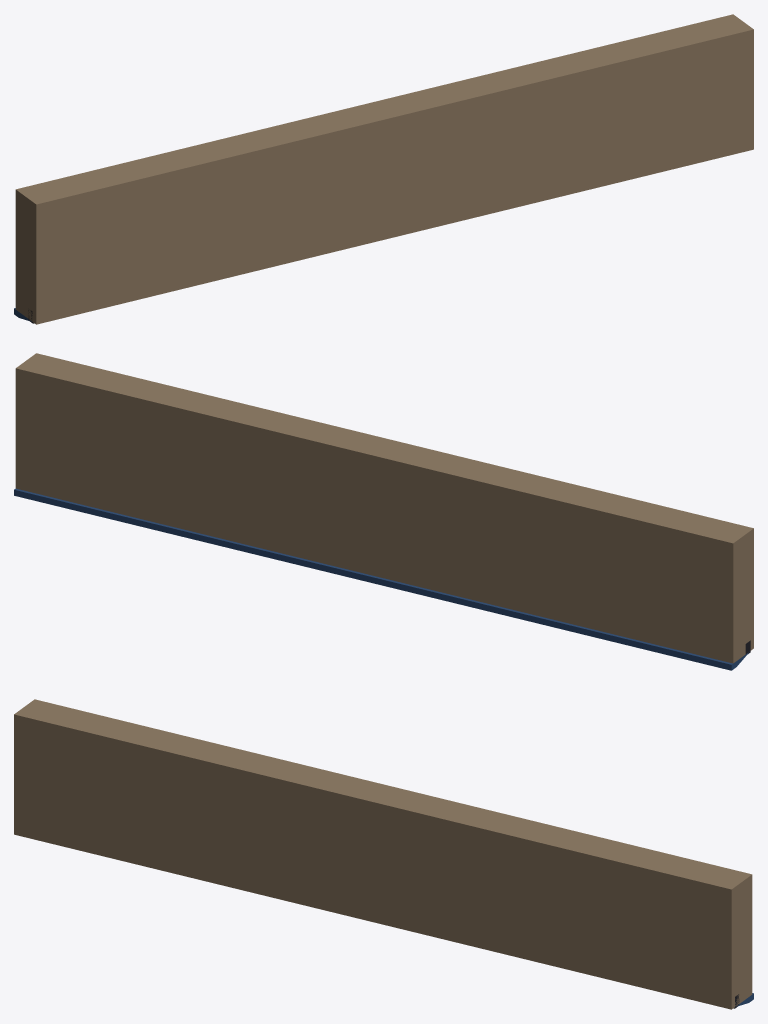
The model's file is kit_clap_door_top.glb.
3 views of the same model, one above another, from view 1: azimuth 30°, elevation 25°; view 2: azimuth 150°, elevation 25°; view 3: azimuth 330°, elevation 25° (orthographic).
Visible parts, largest first — view 1: kit_clap_door_top; view 2: kit_clap_door_top; view 3: kit_clap_door_top.
Boxes of the visible parts, x1,y1,x2,y2 form: kit_clap_door_top: [14, 14, 753, 324]; kit_clap_door_top: [14, 353, 753, 670]; kit_clap_door_top: [14, 699, 753, 1009].
Bounding box in the file's own units: 1 × 0.168 × 0.054.
